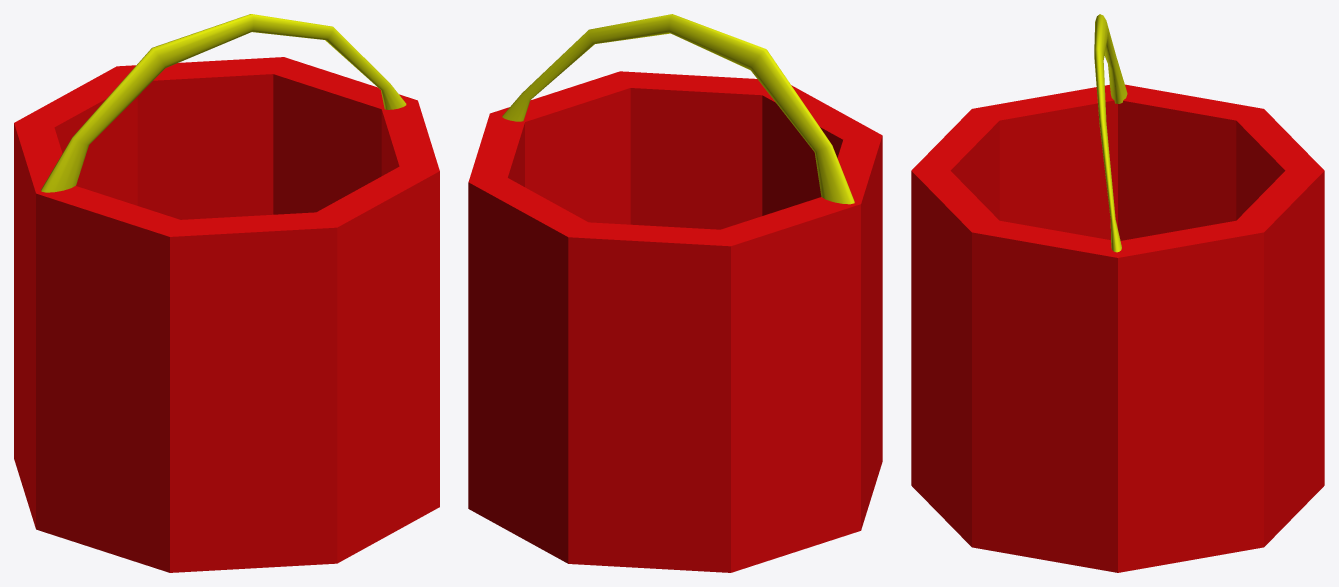
The model's file is バケツ.fbx.
3 views of the same model, side by side, from view 1: azimuth 30°, elevation 25°; view 2: azimuth 150°, elevation 25°; view 3: azimuth 270°, elevation 25° (orthographic). The views are drawn at different scales.
Visible parts, largest first — view 1: 円柱, トーラス; view 2: 円柱, トーラス; view 3: 円柱, トーラス.
Boxes of the visible parts, left/top/right/bottom form: 円柱: left=14, top=57, right=439, bottom=572; トーラス: left=41, top=14, right=406, bottom=192; 円柱: left=468, top=71, right=882, bottom=572; トーラス: left=502, top=14, right=854, bottom=204; 円柱: left=911, top=84, right=1324, bottom=572; トーラス: left=1094, top=14, right=1127, bottom=252.
Size of the model in its own units: 200 by 237 by 200.
